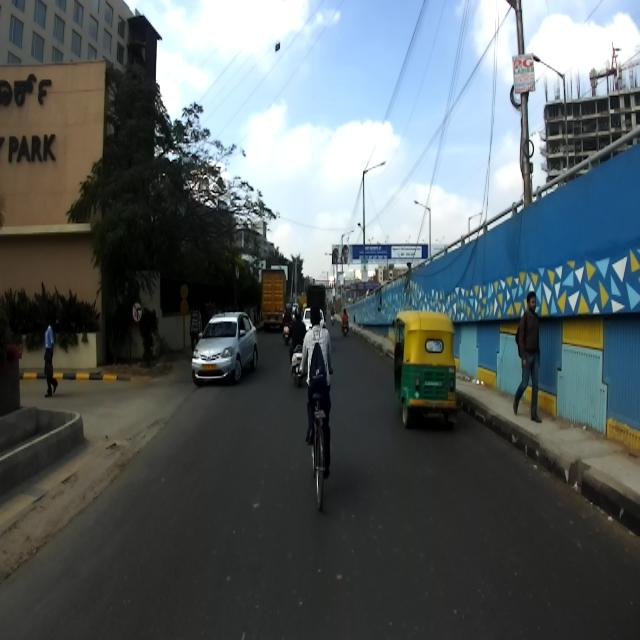auto ahead at: (390, 304, 458, 438)
bicycle ahead at: (300, 395, 339, 517)
car ahead at: (186, 301, 265, 403)
person ahead at: (510, 285, 542, 436)
